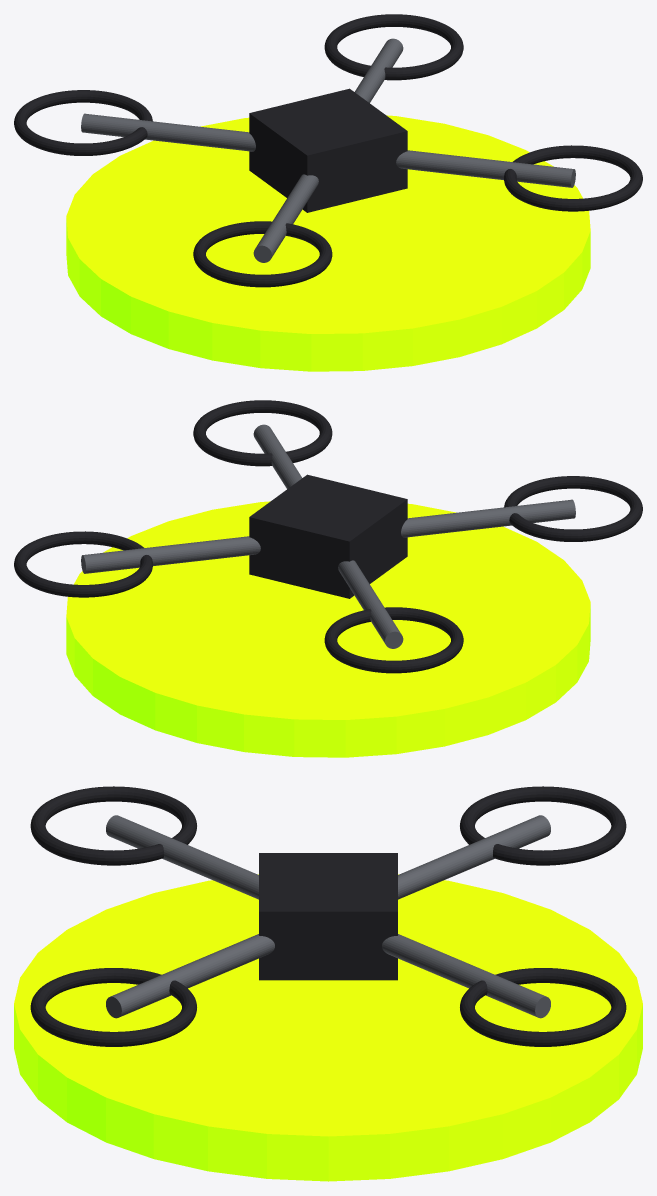
File: tech_drone.glb
3 renders of one model, top to bottom at view 1: azimuth 30°, elevation 25°; view 2: azimuth 150°, elevation 25°; view 3: azimuth 270°, elevation 25°, orthographic. The views are drawn at different scales.
Parts seen in each view (by area): view 1: 08_07_Popular_Tech_Drone_ROOT_base, 08_07_Popular_Tech_Drone_part_01, 08_07_Popular_Tech_Drone_part_03, 08_07_Popular_Tech_Drone_part_09, 08_07_Popular_Tech_Drone_part_05, 08_07_Popular_Tech_Drone_part_07, 08_07_Popular_Tech_Drone_part_08, 08_07_Popular_Tech_Drone_part_02, 08_07_Popular_Tech_Drone_part_06, 08_07_Popular_Tech_Drone_part_04; view 2: 08_07_Popular_Tech_Drone_ROOT_base, 08_07_Popular_Tech_Drone_part_01, 08_07_Popular_Tech_Drone_part_07, 08_07_Popular_Tech_Drone_part_05, 08_07_Popular_Tech_Drone_part_09, 08_07_Popular_Tech_Drone_part_03, 08_07_Popular_Tech_Drone_part_04, 08_07_Popular_Tech_Drone_part_06, 08_07_Popular_Tech_Drone_part_02, 08_07_Popular_Tech_Drone_part_08; view 3: 08_07_Popular_Tech_Drone_ROOT_base, 08_07_Popular_Tech_Drone_part_01, 08_07_Popular_Tech_Drone_part_03, 08_07_Popular_Tech_Drone_part_07, 08_07_Popular_Tech_Drone_part_05, 08_07_Popular_Tech_Drone_part_09, 08_07_Popular_Tech_Drone_part_04, 08_07_Popular_Tech_Drone_part_08, 08_07_Popular_Tech_Drone_part_02, 08_07_Popular_Tech_Drone_part_06.
Boxes of the visible parts, left/top/right/bottom form: 08_07_Popular_Tech_Drone_ROOT_base: left=66, top=115, right=590, bottom=371; 08_07_Popular_Tech_Drone_part_01: left=249, top=88, right=407, bottom=212; 08_07_Popular_Tech_Drone_part_03: left=14, top=90, right=152, bottom=155; 08_07_Popular_Tech_Drone_part_09: left=504, top=145, right=642, bottom=211; 08_07_Popular_Tech_Drone_part_05: left=324, top=14, right=463, bottom=80; 08_07_Popular_Tech_Drone_part_07: left=193, top=221, right=332, bottom=287; 08_07_Popular_Tech_Drone_part_08: left=396, top=150, right=575, bottom=187; 08_07_Popular_Tech_Drone_part_02: left=81, top=113, right=255, bottom=151; 08_07_Popular_Tech_Drone_part_06: left=253, top=174, right=318, bottom=262; 08_07_Popular_Tech_Drone_part_04: left=355, top=38, right=403, bottom=102; 08_07_Popular_Tech_Drone_ROOT_base: left=66, top=501, right=590, bottom=757; 08_07_Popular_Tech_Drone_part_01: left=249, top=474, right=407, bottom=598; 08_07_Popular_Tech_Drone_part_07: left=504, top=476, right=642, bottom=541; 08_07_Popular_Tech_Drone_part_05: left=14, top=531, right=152, bottom=597; 08_07_Popular_Tech_Drone_part_09: left=193, top=400, right=332, bottom=466; 08_07_Popular_Tech_Drone_part_03: left=324, top=607, right=463, bottom=673; 08_07_Popular_Tech_Drone_part_04: left=81, top=536, right=260, bottom=573; 08_07_Popular_Tech_Drone_part_06: left=401, top=499, right=575, bottom=537; 08_07_Popular_Tech_Drone_part_02: left=338, top=560, right=403, bottom=648; 08_07_Popular_Tech_Drone_part_08: left=253, top=424, right=301, bottom=488; 08_07_Popular_Tech_Drone_ROOT_base: left=14, top=874, right=642, bottom=1181; 08_07_Popular_Tech_Drone_part_01: left=259, top=853, right=397, bottom=980; 08_07_Popular_Tech_Drone_part_03: left=460, top=786, right=626, bottom=865; 08_07_Popular_Tech_Drone_part_07: left=30, top=786, right=196, bottom=865; 08_07_Popular_Tech_Drone_part_05: left=460, top=968, right=626, bottom=1046; 08_07_Popular_Tech_Drone_part_09: left=30, top=968, right=196, bottom=1046; 08_07_Popular_Tech_Drone_part_04: left=382, top=934, right=550, bottom=1018; 08_07_Popular_Tech_Drone_part_08: left=106, top=934, right=274, bottom=1018; 08_07_Popular_Tech_Drone_part_02: left=398, top=815, right=550, bottom=899; 08_07_Popular_Tech_Drone_part_06: left=106, top=815, right=258, bottom=899.
Size of the model in its own units: 0.76 by 0.2215 by 0.76.
